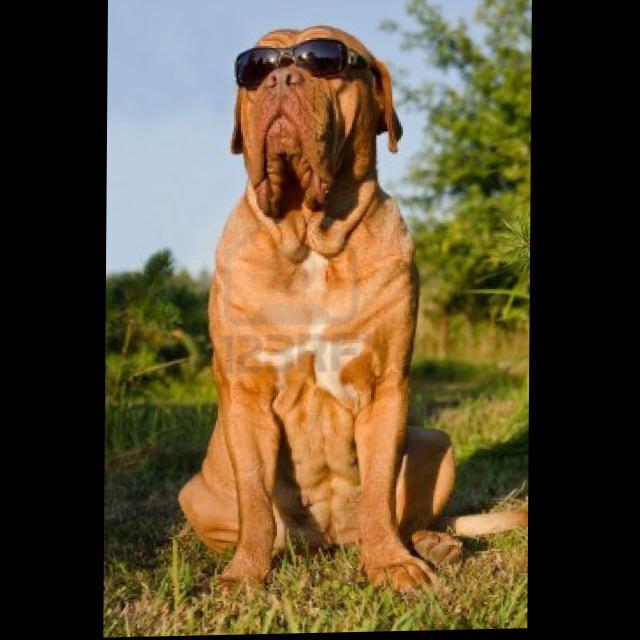dogue_de_bordeaux: (179, 24, 469, 609)
